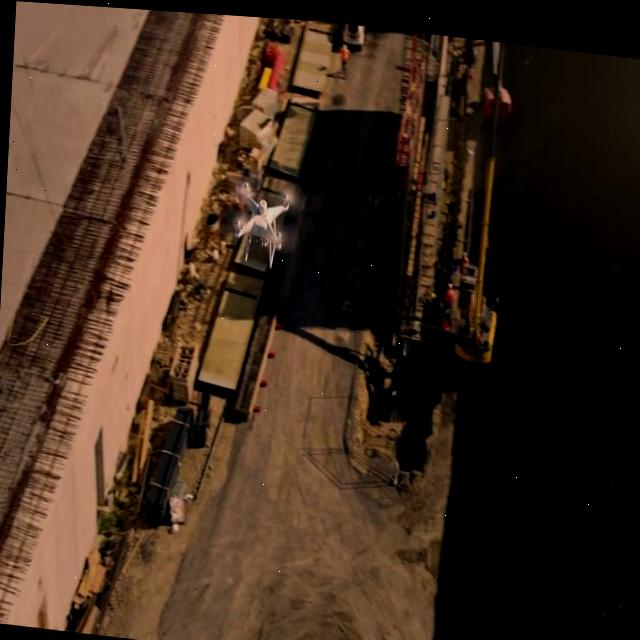drone: (226, 169, 306, 264)
